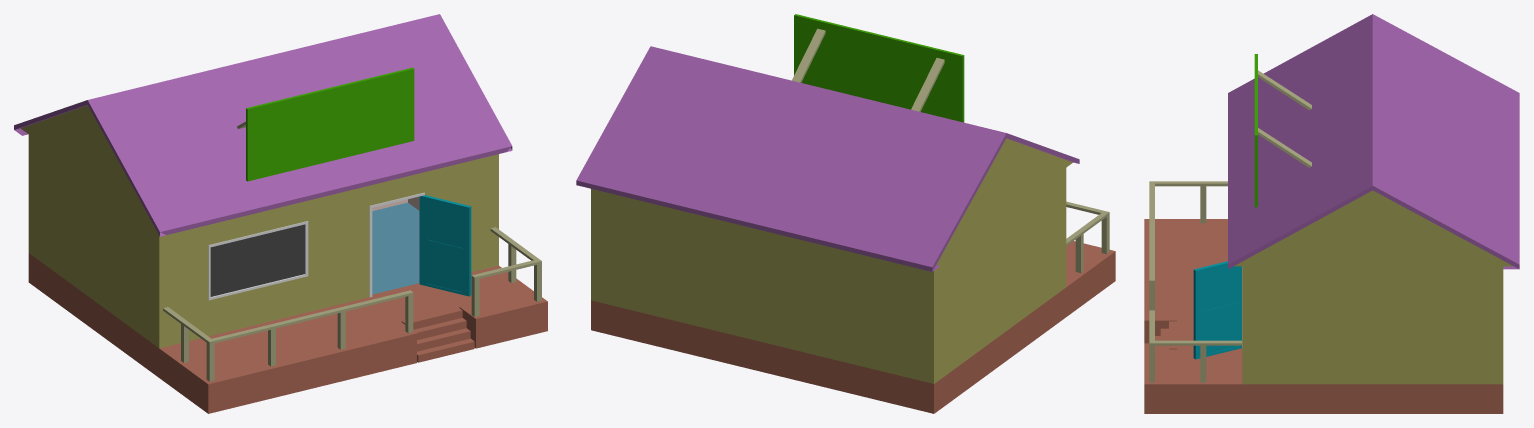
File: shop.fbx
3 renders of one model, left to right at view 1: azimuth 30°, elevation 25°; view 2: azimuth 150°, elevation 25°; view 3: azimuth 270°, elevation 25°, orthographic.
Visible parts, largest first — view 1: UCX_Shop; view 2: UCX_Shop; view 3: UCX_Shop.
Part boxes in pixels (x1=…): UCX_Shop: x1=14, y1=14, x2=547, y2=413; UCX_Shop: x1=576, y1=14, x2=1115, y2=413; UCX_Shop: x1=1144, y1=14, x2=1519, y2=413.
Size of the model in its own units: 759 by 496 by 701.
